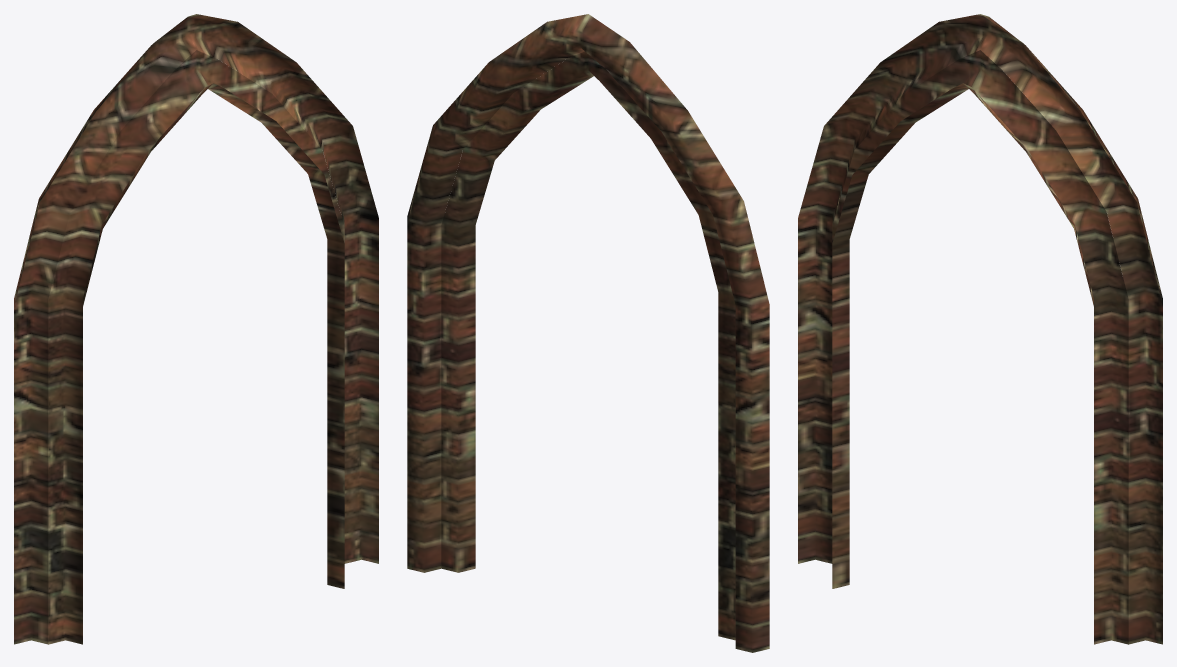
File: chapel_door1_back.obj
The picture shows the model from 3 angles, left to right: view 1: azimuth 30°, elevation 25°; view 2: azimuth 150°, elevation 25°; view 3: azimuth 330°, elevation 25°; orthographic projection.
Parts seen in each view (by area): view 1: Object001; view 2: Object001; view 3: Object001.
Part boxes in pixels (x1=…): Object001: x1=14, y1=14, x2=378, y2=644; Object001: x1=407, y1=14, x2=769, y2=652; Object001: x1=798, y1=14, x2=1162, y2=644.
Size of the model in its own units: 1357 by 2112 by 166.
1 material, 1 textured.
